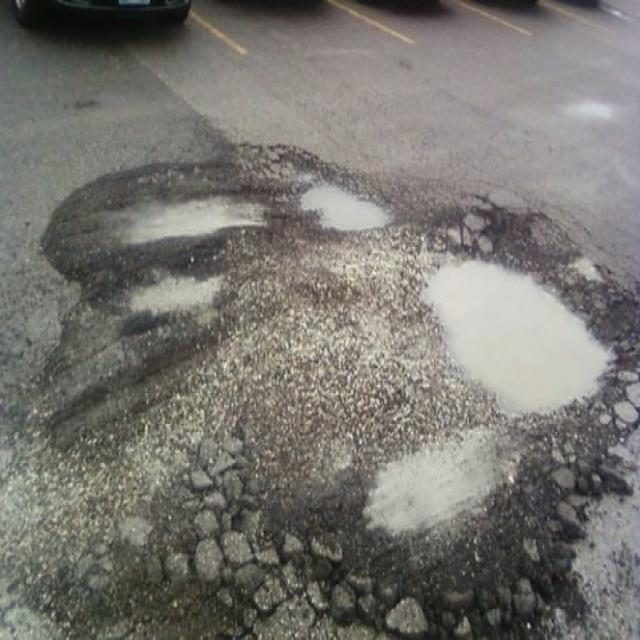pothole: (412, 206, 622, 418), (336, 428, 518, 558), (98, 174, 282, 249), (298, 163, 402, 233), (116, 256, 230, 318)
